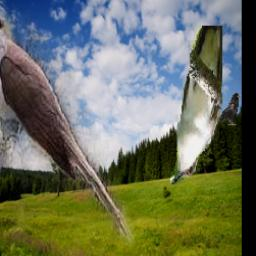Crow: (214, 92, 242, 125)
Cuckoo: (0, 9, 136, 247), (171, 26, 223, 184)
